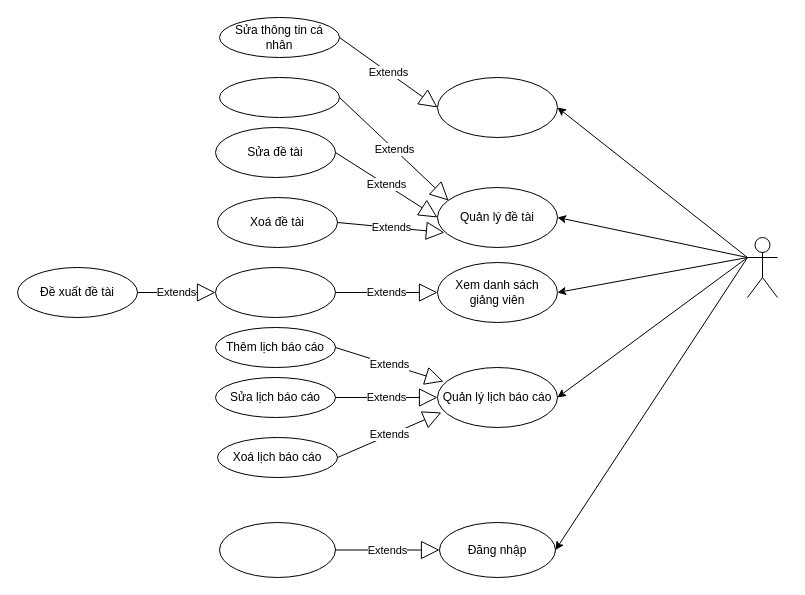
Image size: 805x595. Some labels were removed from this diagram. Each missing label, with the centre of its shape:
Quản lý thông tin cá nhân: [497,107]
Sinh Viên: [762,267]
Thêm đề tài: [279,97]
Xem thông tin giảng viên: [275,292]
Đăng xuất: [277,550]
